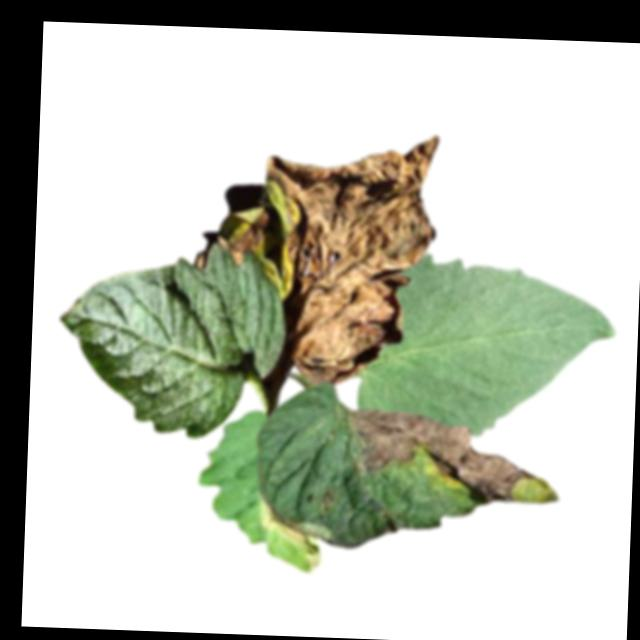Late_blight: (257, 127, 439, 388), (346, 407, 536, 507), (259, 501, 333, 574), (222, 207, 272, 268)
